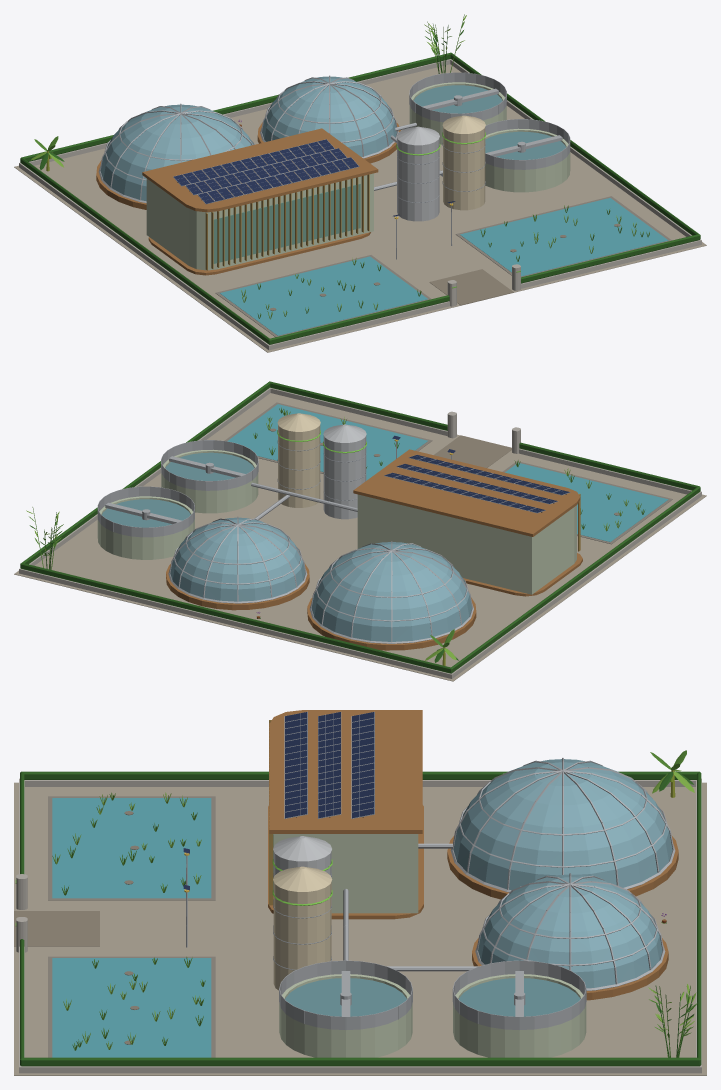
Rendered from water_works.glb.
3 renders of one model, top to bottom at view 1: azimuth 30°, elevation 25°; view 2: azimuth 150°, elevation 25°; view 3: azimuth 270°, elevation 25°, orthographic. The views are drawn at different scales.
Parts seen in each view (by area): view 1: body; view 2: body; view 3: body.
Boxes of the visible parts, x1,y1,x2,y2 form: body: (14, 14, 706, 352); body: (14, 381, 706, 681); body: (14, 710, 706, 1075).
Bounding box in the file's own units: 48.01 × 9.09 × 47.9.
